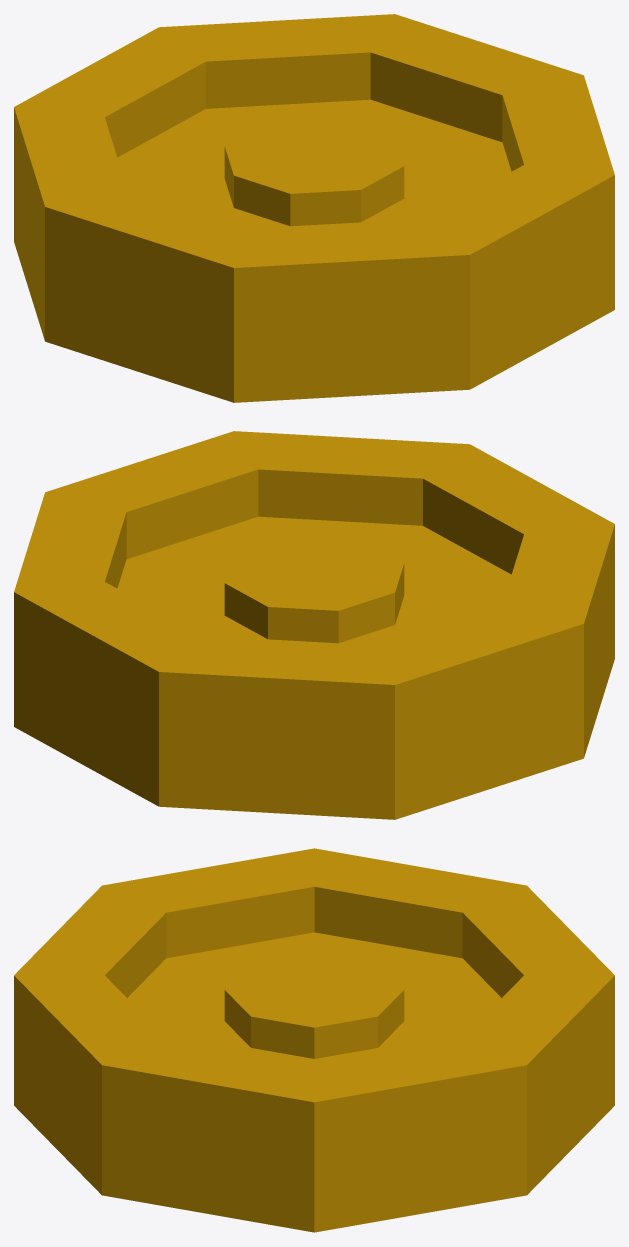
Rendered from coin_gold.glb.
3 views of the same model, one above another, from view 1: azimuth 30°, elevation 25°; view 2: azimuth 150°, elevation 25°; view 3: azimuth 270°, elevation 25° (orthographic). The views are drawn at different scales.
Parts seen in each view (by area): view 1: Cylinder.001; view 2: Cylinder.001; view 3: Cylinder.001.
Boxes of the visible parts, left/top/right/bottom form: Cylinder.001: left=14, top=14, right=614, bottom=402; Cylinder.001: left=14, top=431, right=614, bottom=819; Cylinder.001: left=14, top=848, right=614, bottom=1232.
Size of the model in its own units: 0.1051 by 0.0251 by 0.1051.
